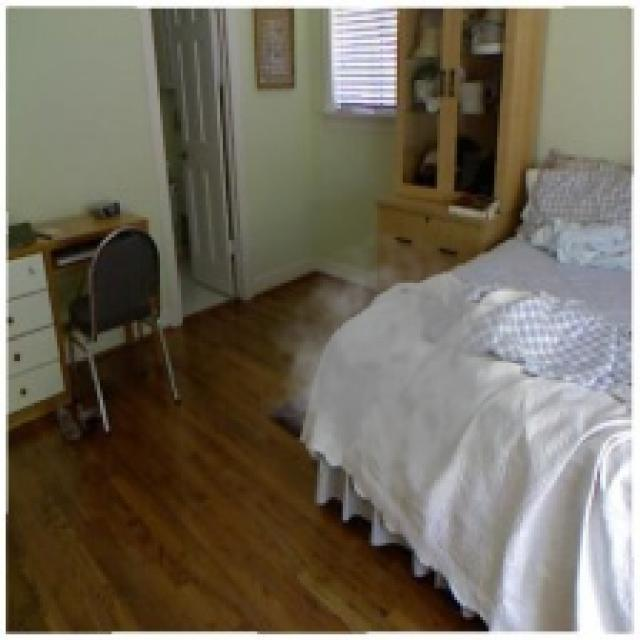Smoke: (260, 228, 534, 501)
